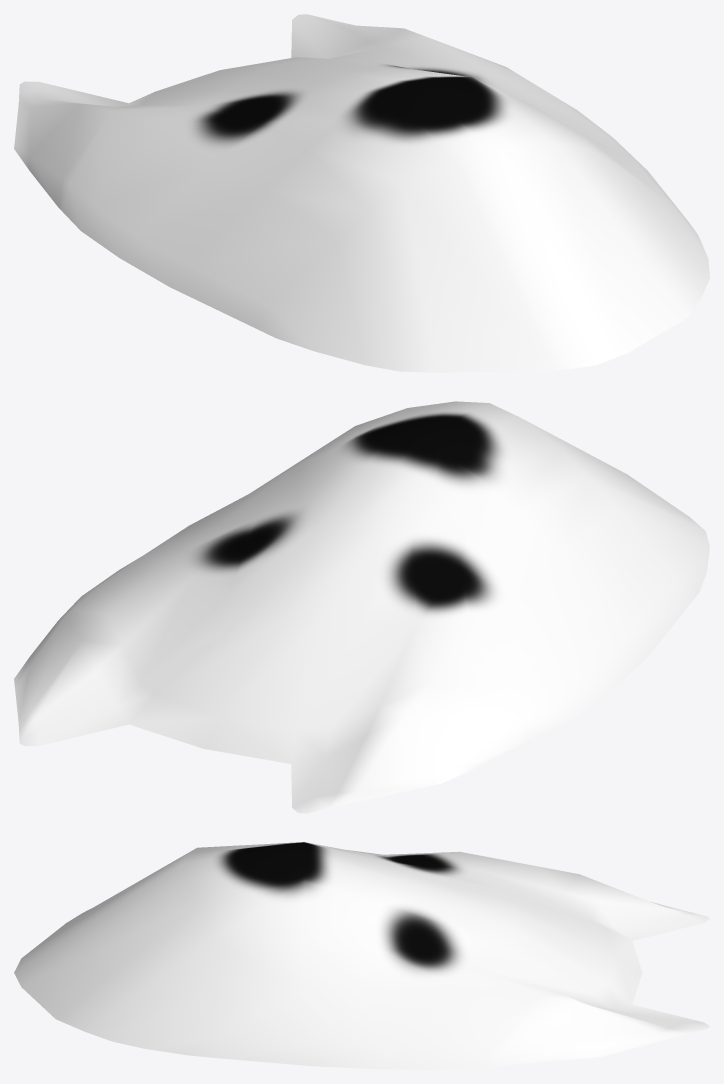
Rendered from mascara.glb.
3 renders of one model, top to bottom at view 1: azimuth 30°, elevation 25°; view 2: azimuth 150°, elevation 25°; view 3: azimuth 270°, elevation 25°, orthographic. The views are drawn at different scales.
Visible parts, largest first — view 1: pCube3; view 2: pCube3; view 3: pCube3.
Boxes of the visible parts, <box> form: pCube3: <box>14,14,709,372</box>; pCube3: <box>14,401,709,813</box>; pCube3: <box>14,842,709,1069</box>.
Size of the model in its own units: 0.0372 by 0.011 by 0.0563.
Materials: 1 (1 with a texture image).
